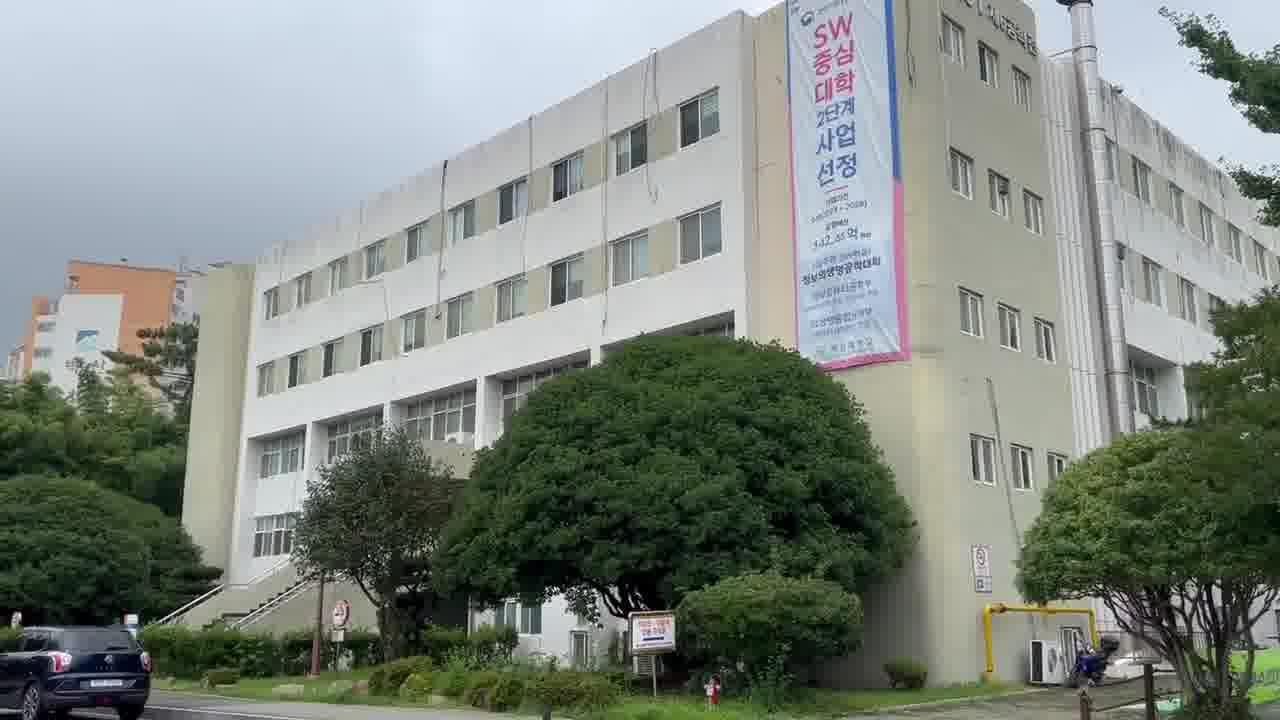building: (220, 56, 774, 349)
